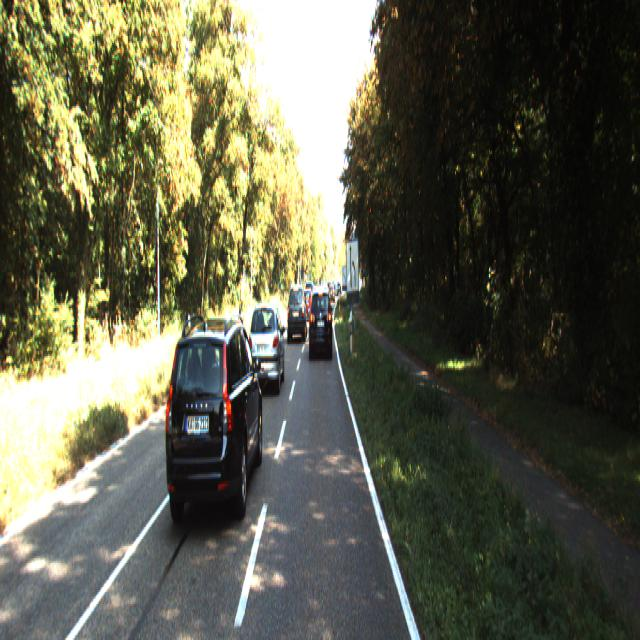Car: (163, 310, 265, 536), (247, 297, 284, 393), (308, 285, 332, 357), (287, 283, 306, 340)
